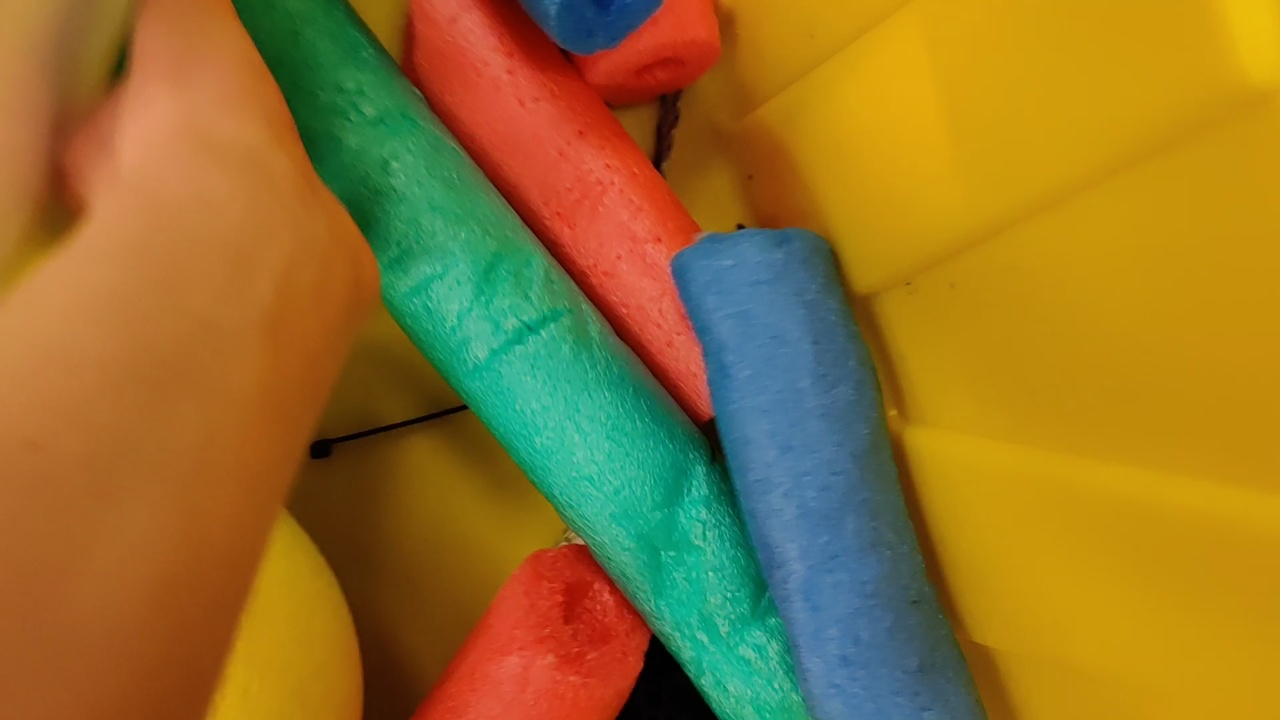Ball: (207, 501, 362, 718)
